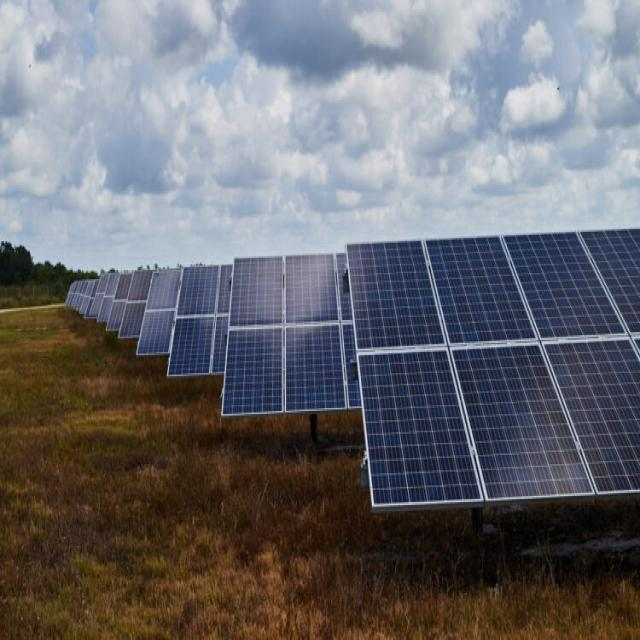clean-solar-panel: (348, 231, 640, 507), (224, 253, 360, 415), (168, 268, 232, 375), (137, 271, 181, 355)
